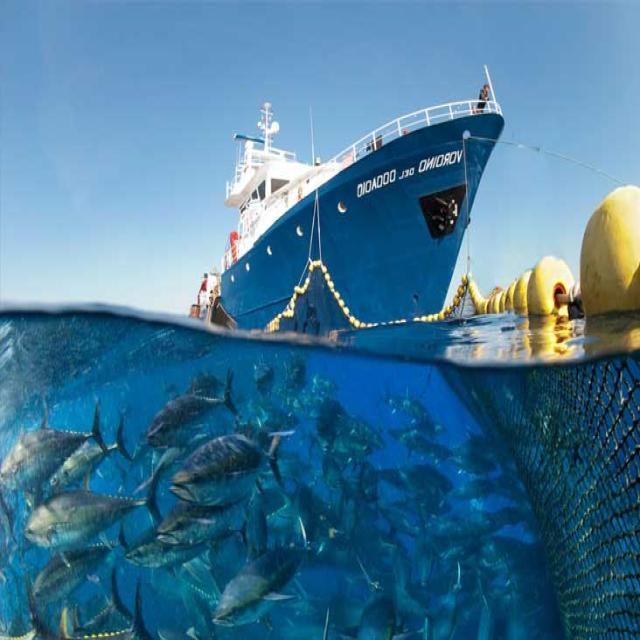Fishing Boat: (112, 129, 523, 356)
